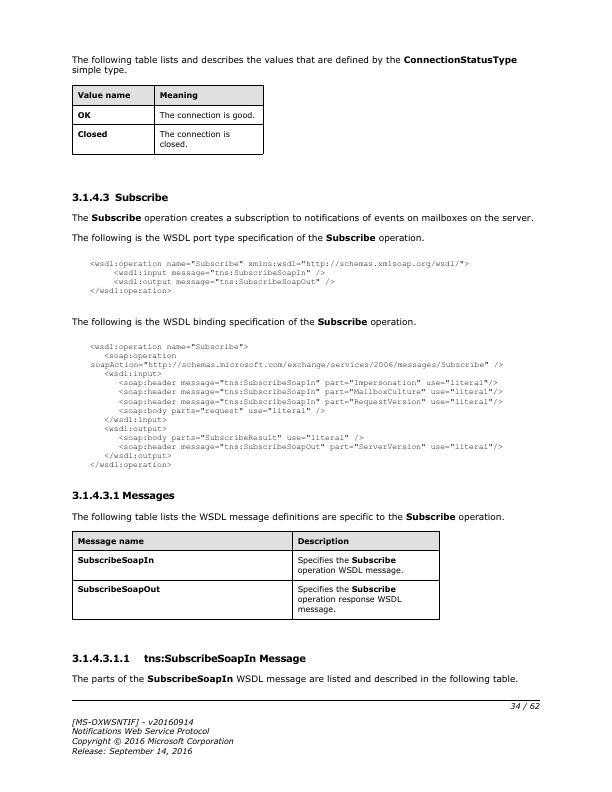table: (68, 528, 441, 624), (71, 83, 266, 158)
text: (86, 340, 502, 470), (87, 258, 471, 295), (68, 52, 519, 79), (68, 671, 518, 686), (67, 715, 234, 755), (68, 212, 533, 226), (68, 509, 507, 523), (66, 230, 429, 245), (68, 313, 419, 328), (67, 651, 308, 666), (70, 488, 181, 504), (67, 190, 171, 205)
